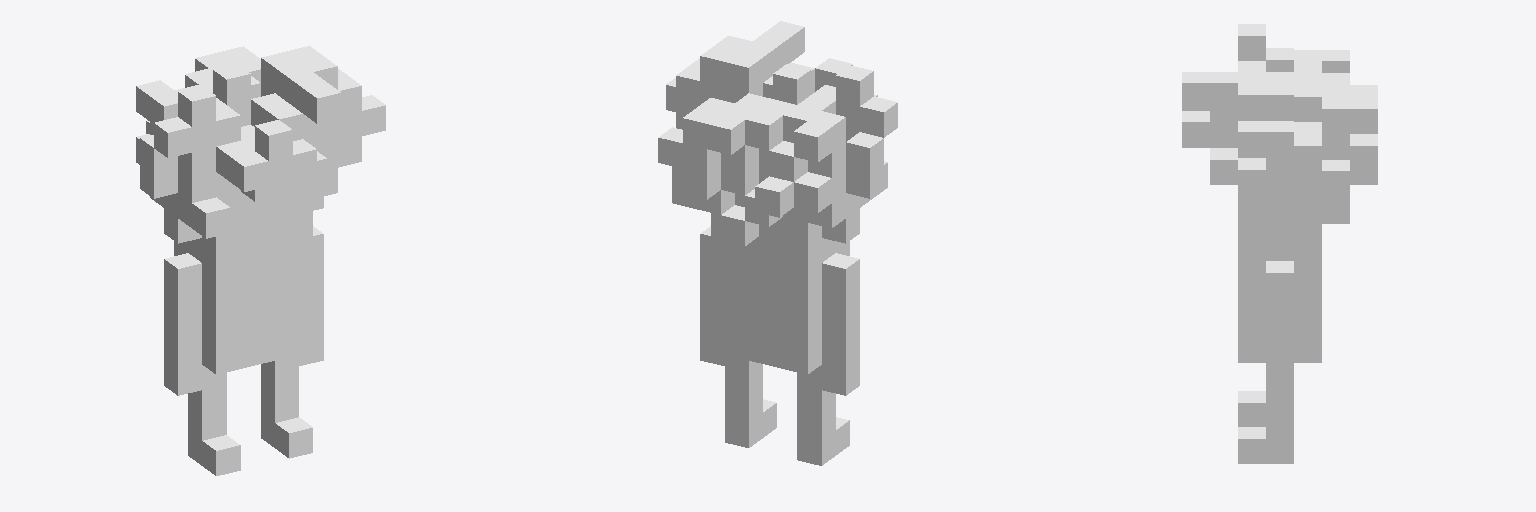
File: Gril4-3obj.obj
3 renders of one model, left to right at view 1: azimuth 30°, elevation 25°; view 2: azimuth 150°, elevation 25°; view 3: azimuth 270°, elevation 25°, orthographic.
Parts seen in each view (by area): view 1: Gril4-3obj; view 2: Gril4-3obj; view 3: Gril4-3obj.
Part boxes in pixels (x1,y1,x2,y2): Gril4-3obj: (136, 46, 385, 475); Gril4-3obj: (658, 21, 897, 465); Gril4-3obj: (1182, 24, 1377, 463).
Bounding box in the file's own units: 9 × 15 × 7.